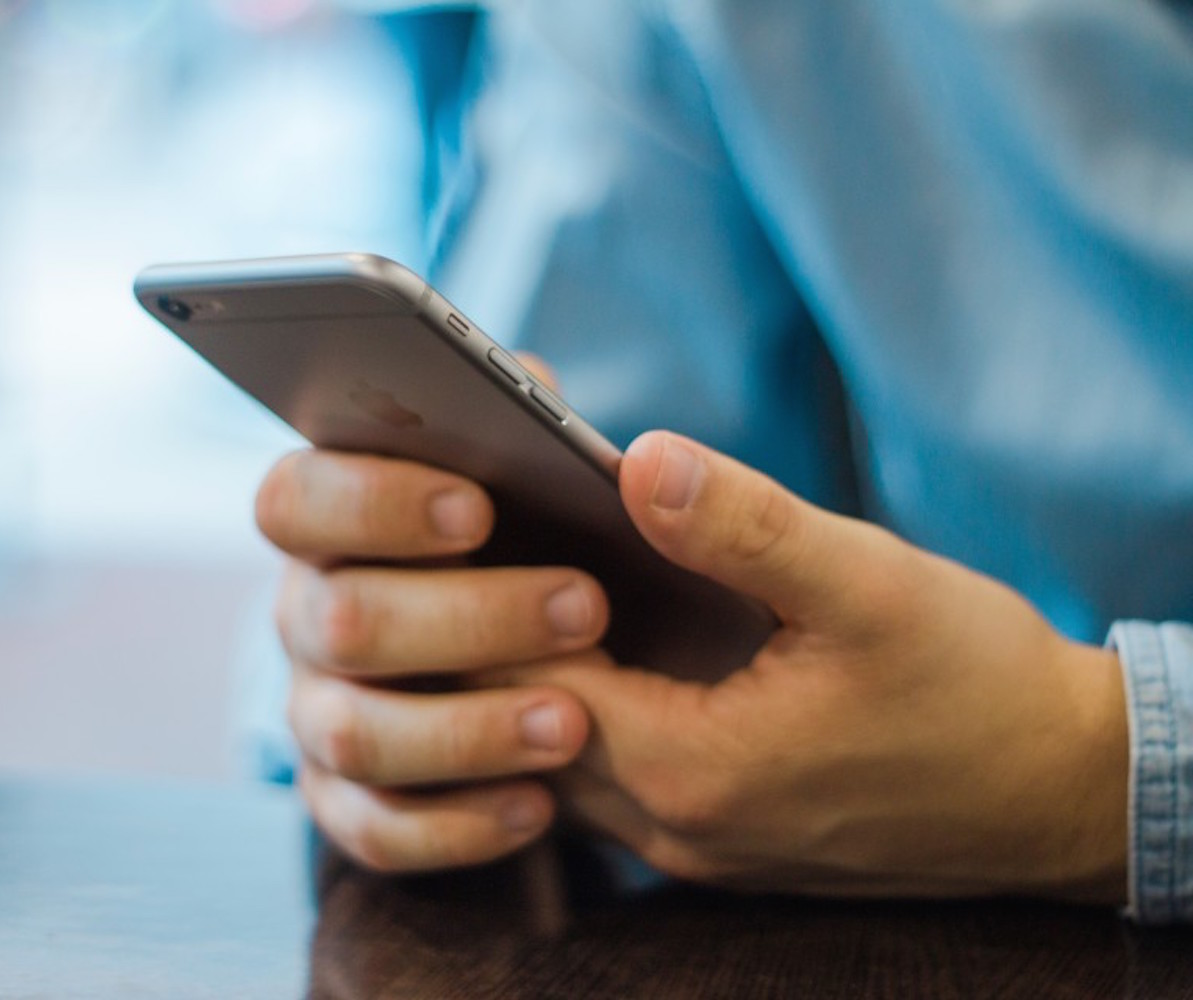smartphone: (131, 250, 786, 691)
